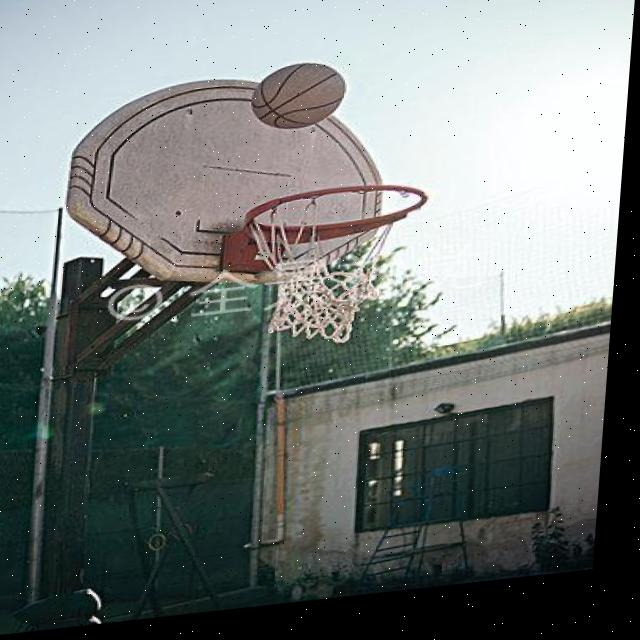basketball: (247, 58, 349, 134)
hoop: (238, 177, 430, 353)
